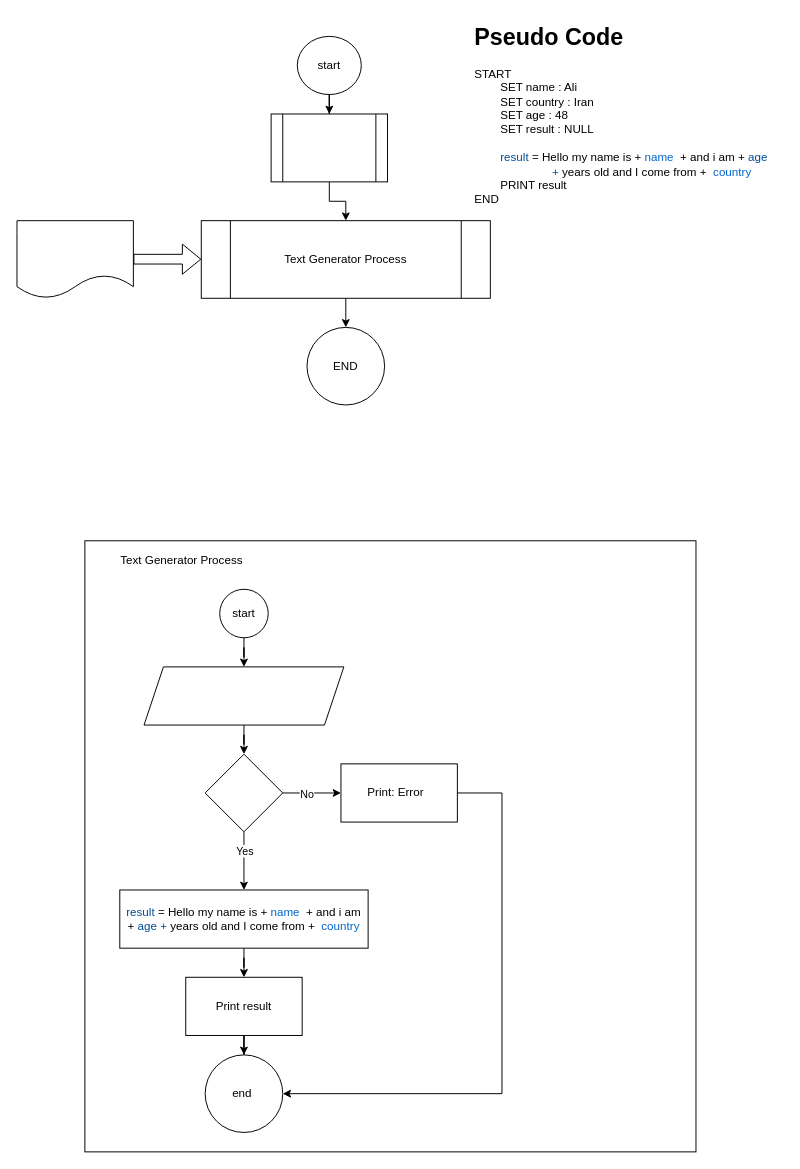
This 800x1169 diagram has some shape labels left out. The shapes that lost their labels are listed below. From the top down, each one's centre as x and y in pixels, then its label:
[329,147]: define variablen: name : "Ali" country :"Iran" age : "48" result : NULL
[74,259]: Process: means when your app shall do something itself
[243,695]: input : name , country , age
[243,792]: all input exists
